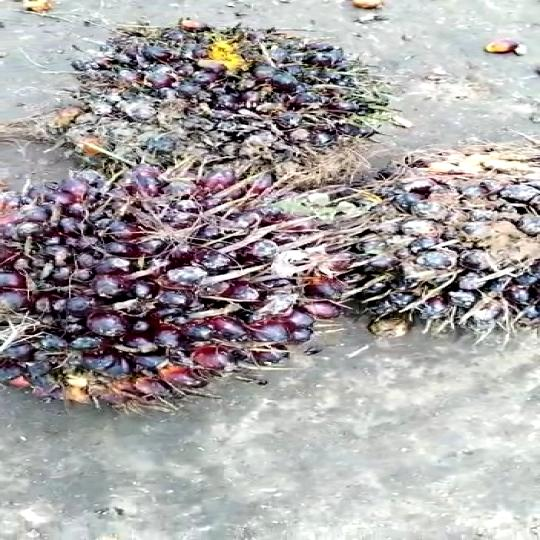kurang masak: (0, 181, 313, 419), (75, 22, 397, 172), (333, 145, 540, 336)
